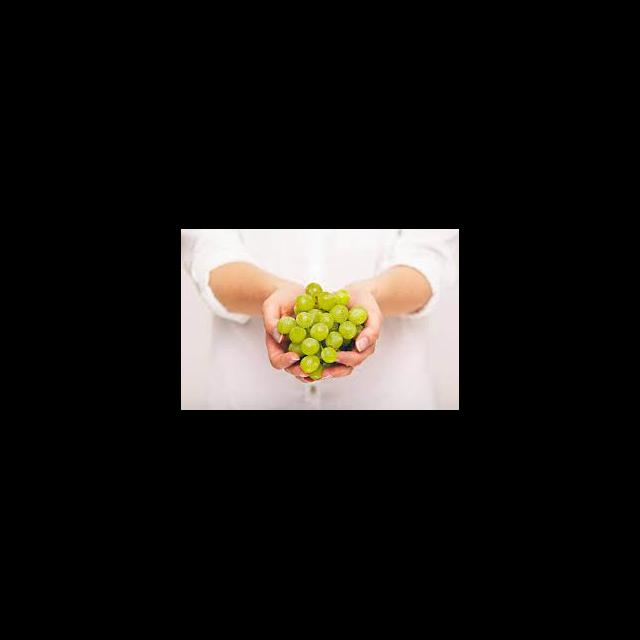grape: (276, 282, 368, 380)
